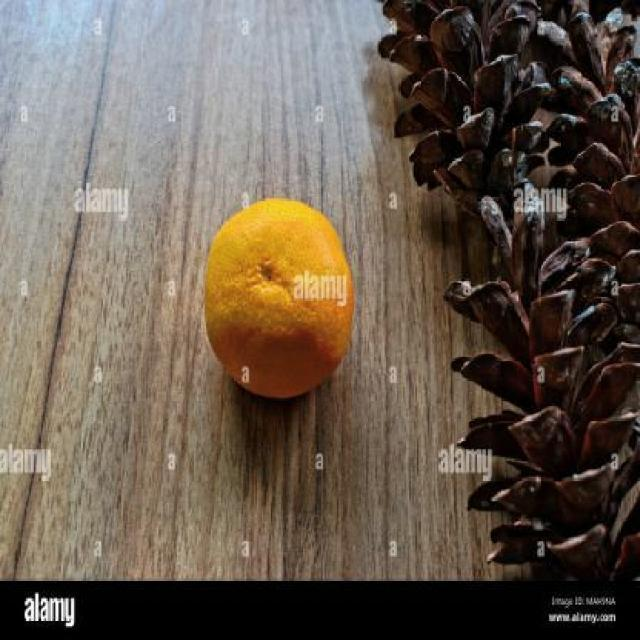Jeruk Sudah Matang: (200, 196, 354, 407)
